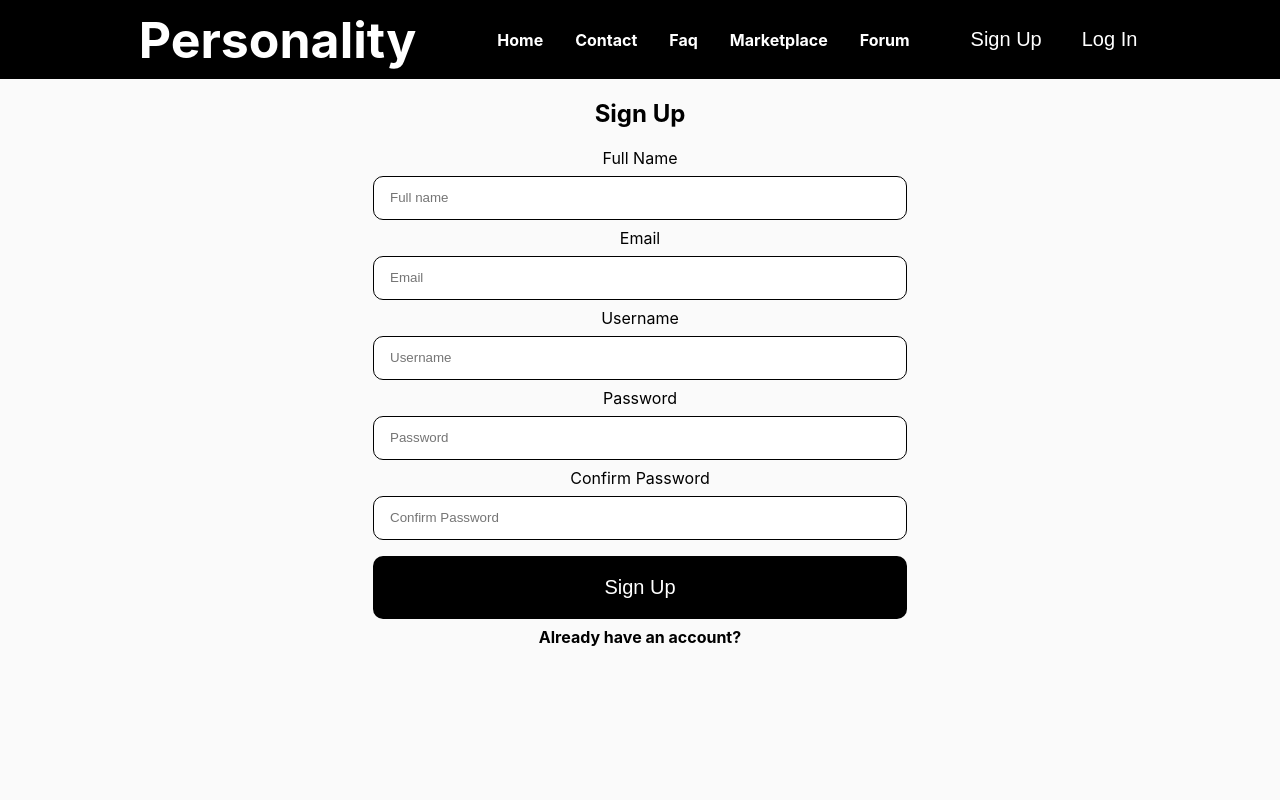
Cannot submit full name with numbers
The width and height of the screenshot is (1280, 800).
Type "John Jefferson 2" into the field with test id "signup-fullname" at {"x": 640, "y": 198}, box [373,176,907,220]
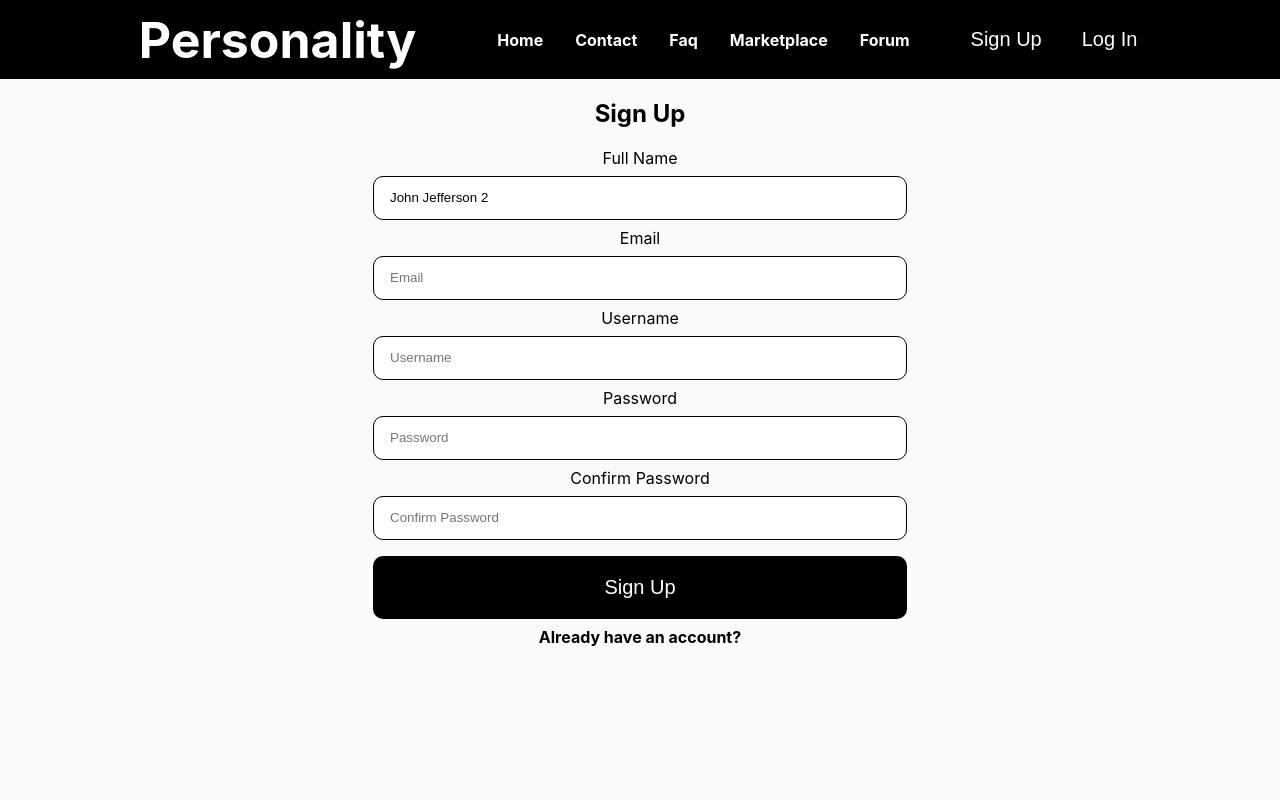
Type "jjettas2@gmail.com" into the field with test id "signup-email" at {"x": 640, "y": 278}, box [373,256,907,300]
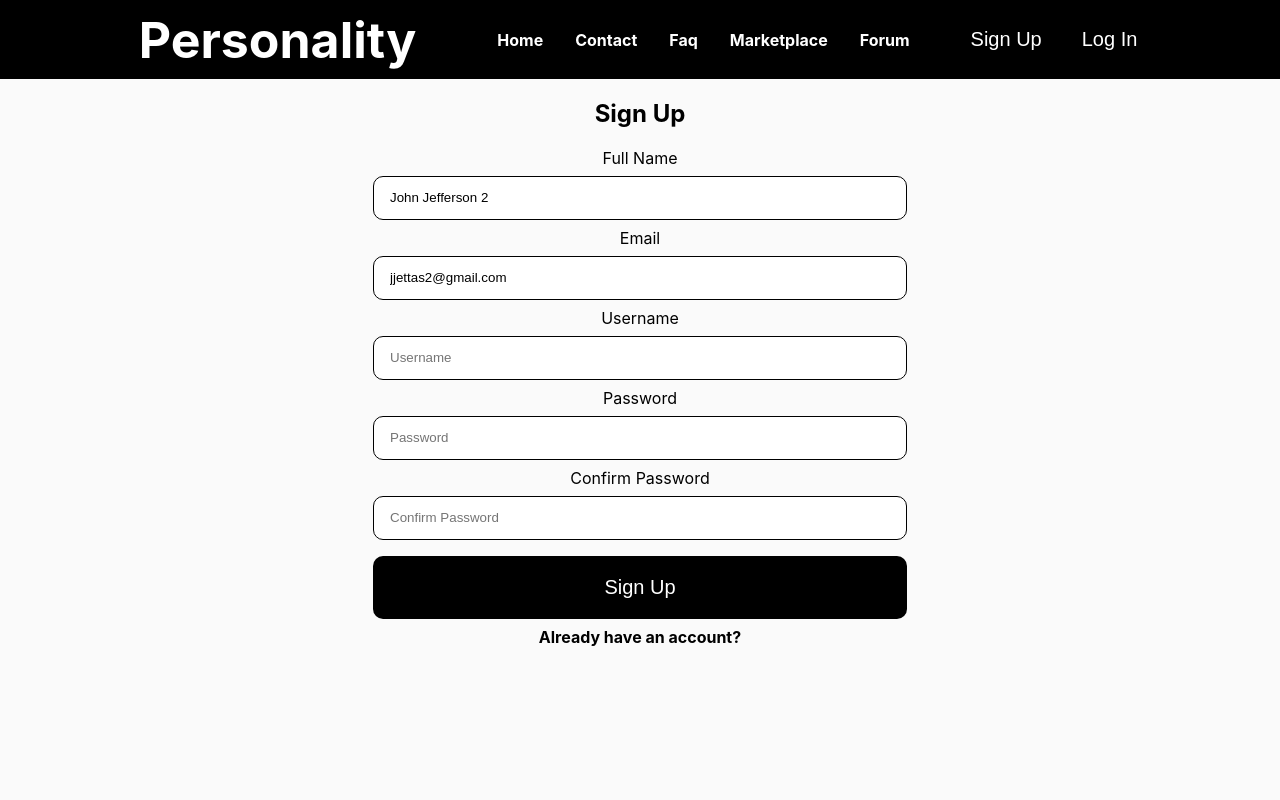
Type "Griddy" into the field with test id "signup-username" at {"x": 640, "y": 358}, box [373,336,907,380]
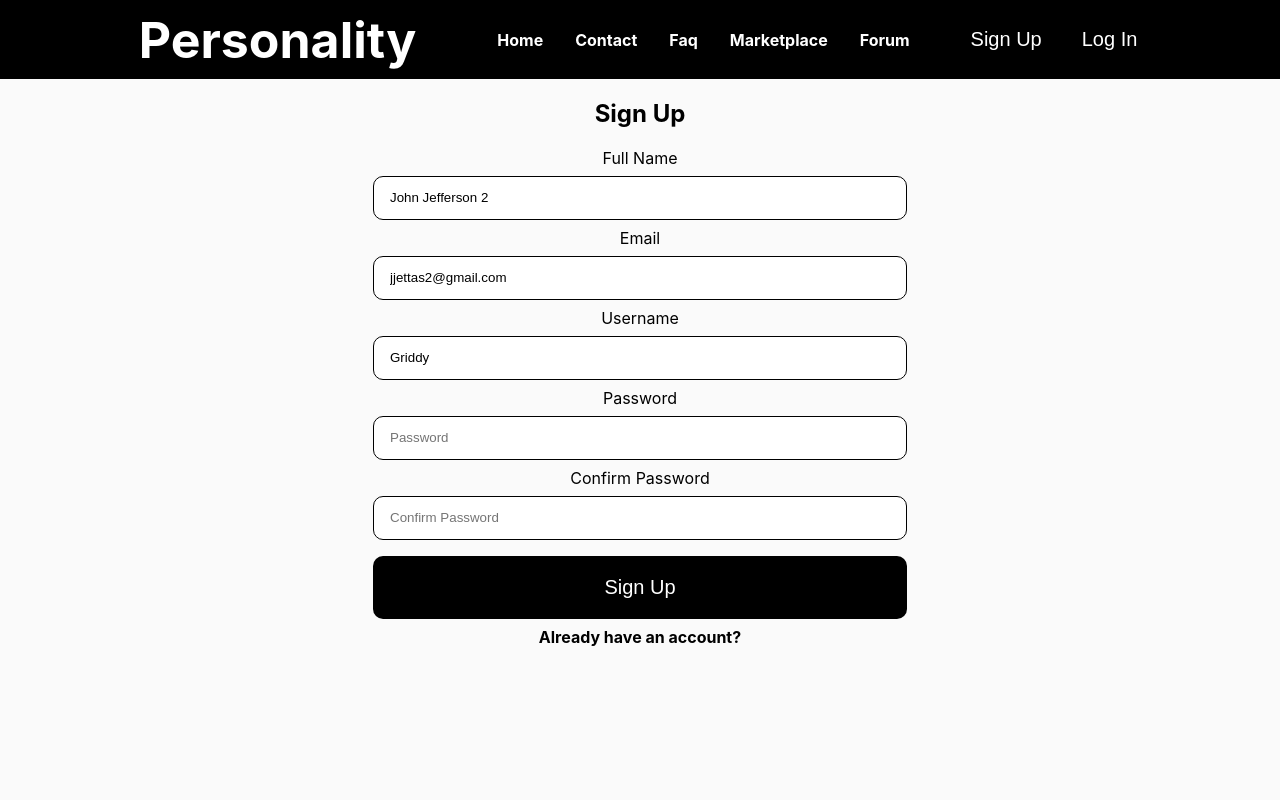
Type "Schwarzkopf23" into the password field with test id "signup-password" at {"x": 640, "y": 438}, box [373,416,907,460]
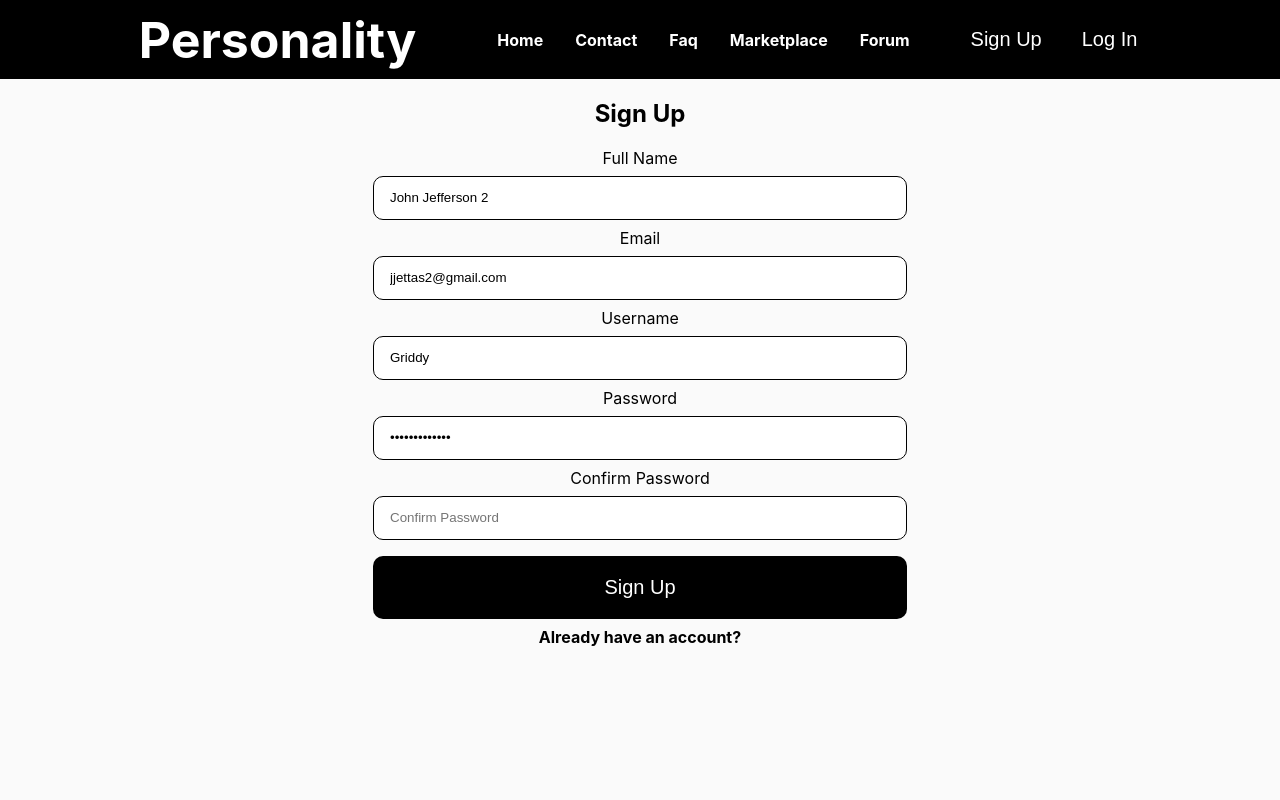
Type "Schwarzkopf23" into the password field with test id "signup-confirmpass" at {"x": 640, "y": 518}, box [373,496,907,540]
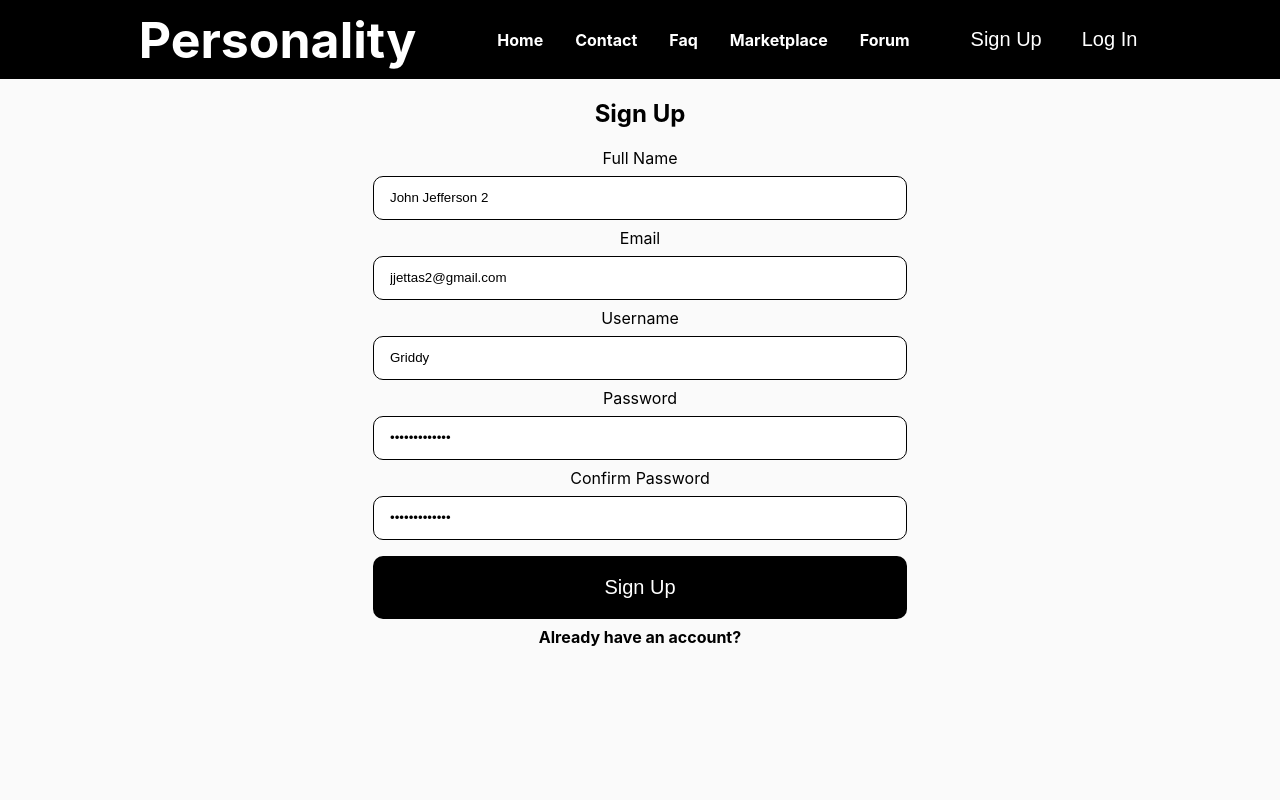
Click the button with test id "signup-submit" at {"x": 640, "y": 587}, box [373,556,907,619]
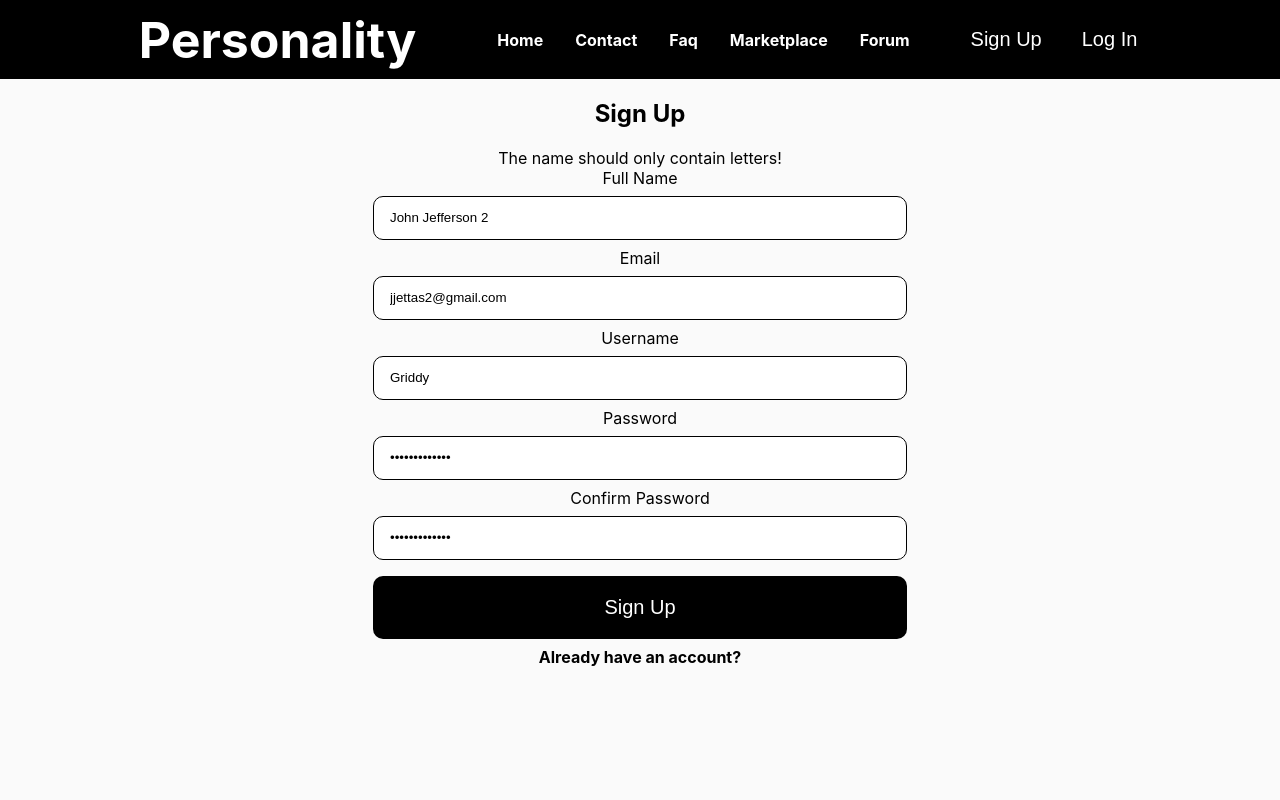
Expected: the message reads "The name should only contain letters!", [498,148,782,168]
